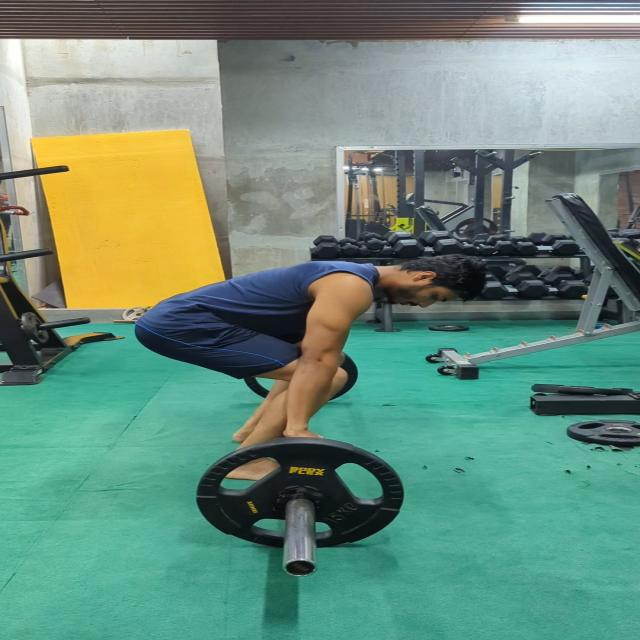Normal_Deadlifts: (129, 252, 496, 485)
